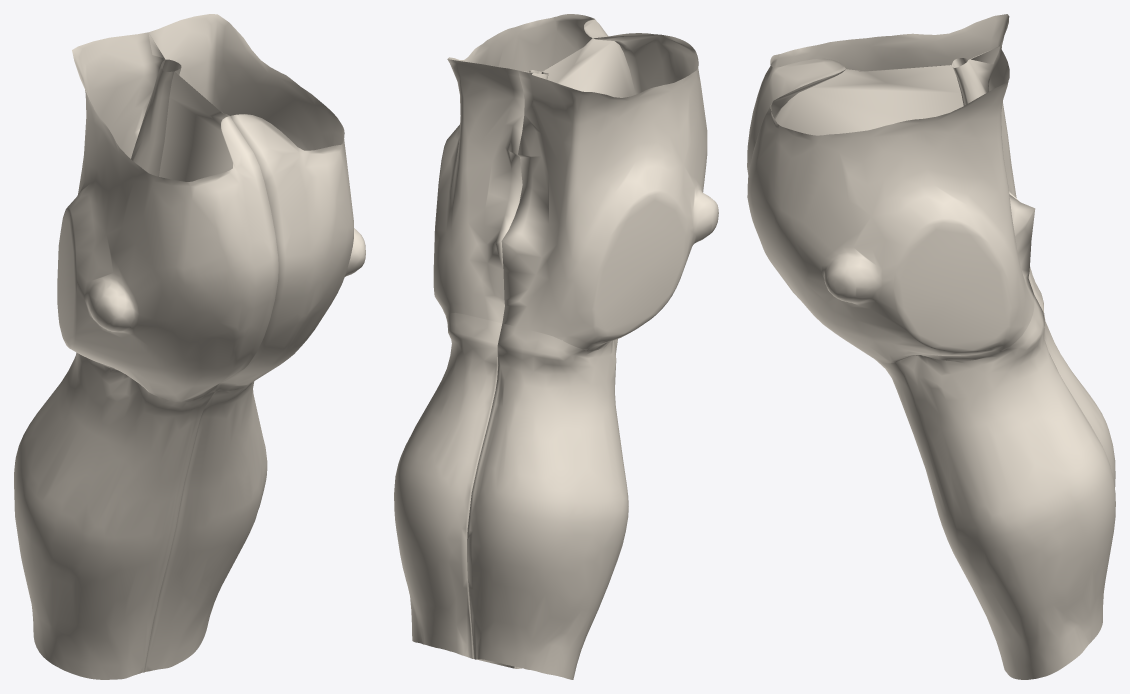
File: brainstem.obj
3 renders of one model, left to right at view 1: azimuth 30°, elevation 25°; view 2: azimuth 150°, elevation 25°; view 3: azimuth 270°, elevation 25°, orthographic. The views are drawn at different scales.
Visible parts, largest first — view 1: Metencephalon.003; view 2: Metencephalon.003; view 3: Metencephalon.003.
Part boxes in pixels (left/top/right/bottom): Metencephalon.003: left=14, top=14, right=365, bottom=679; Metencephalon.003: left=394, top=14, right=718, bottom=679; Metencephalon.003: left=747, top=14, right=1115, bottom=679.
Bounding box in the file's own units: 1.61 × 3.69 × 2.01.
